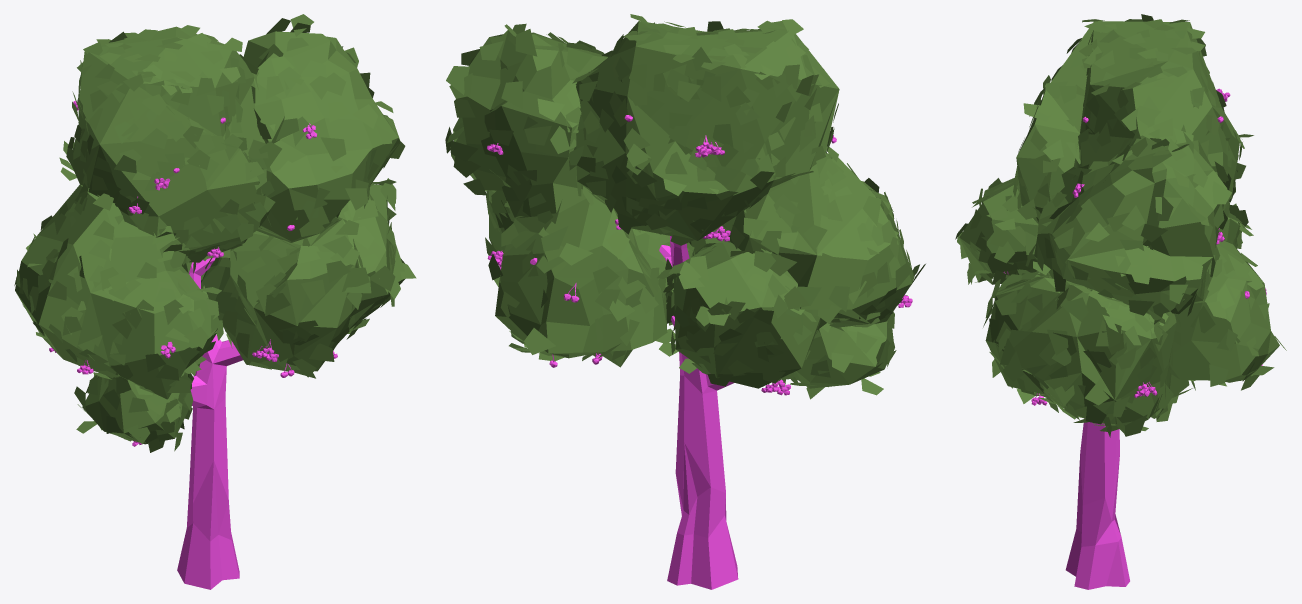
File: SM_Tree_Cherry_Ripe.fbx
3 views of the same model, side by side, from view 1: azimuth 30°, elevation 25°; view 2: azimuth 150°, elevation 25°; view 3: azimuth 270°, elevation 25° (orthographic). The views are drawn at different scales.
Visible parts, largest first — view 1: SM_Tree_Cherry_Ripe; view 2: SM_Tree_Cherry_Ripe; view 3: SM_Tree_Cherry_Ripe.
Part boxes in pixels (box(x1,y1,x2,y2)): SM_Tree_Cherry_Ripe: box(14, 14, 416, 589); SM_Tree_Cherry_Ripe: box(445, 14, 925, 589); SM_Tree_Cherry_Ripe: box(955, 14, 1286, 589).
Size of the model in its own units: 4.74 by 6.16 by 3.53.
